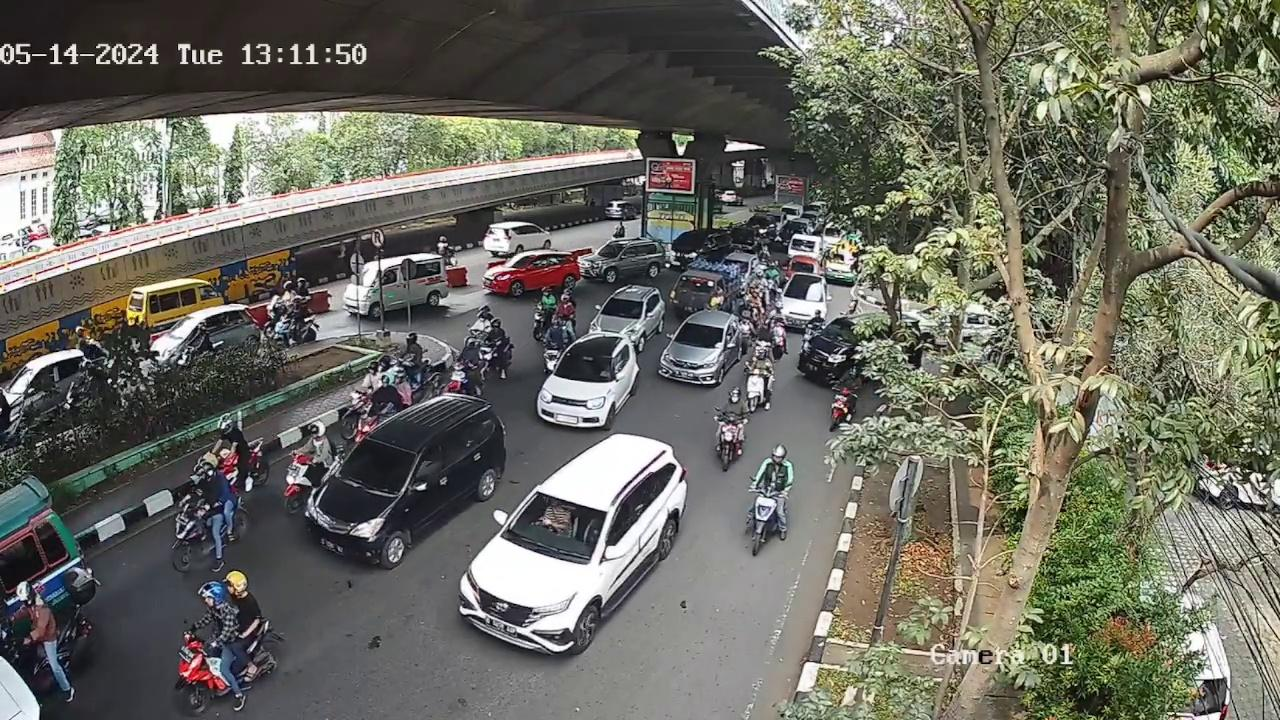pakai: (534, 504, 573, 538)
windshield: (505, 493, 607, 565), (332, 439, 422, 488), (556, 349, 620, 388)
